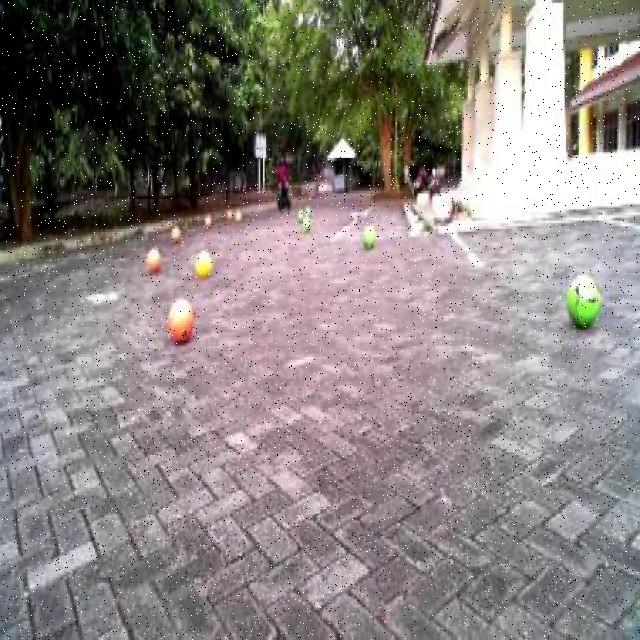buoy: (561, 262, 605, 340), (162, 290, 196, 350), (193, 246, 214, 284), (144, 238, 163, 277), (359, 218, 376, 253)
